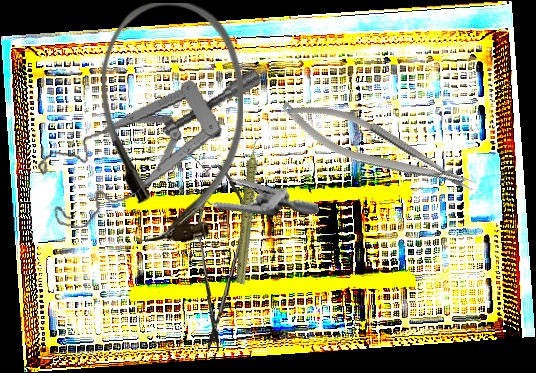Cannula: (102, 3, 243, 241)
Handpiece: (205, 135, 295, 286)
Micro Scissor: (191, 163, 248, 353)
Needle Holder: (274, 85, 481, 212)
Speculum: (28, 68, 279, 233), (160, 119, 320, 247)
